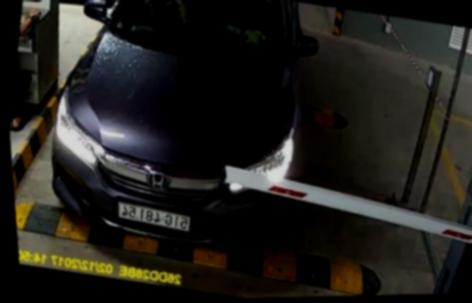License_Plate: (114, 191, 196, 244)
